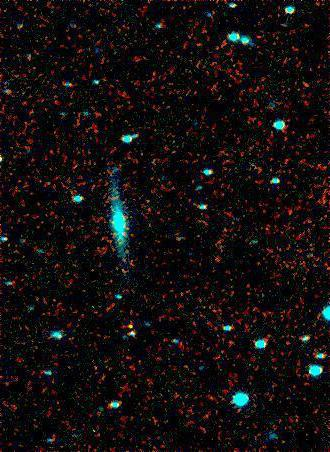star: (116, 310, 146, 340)
